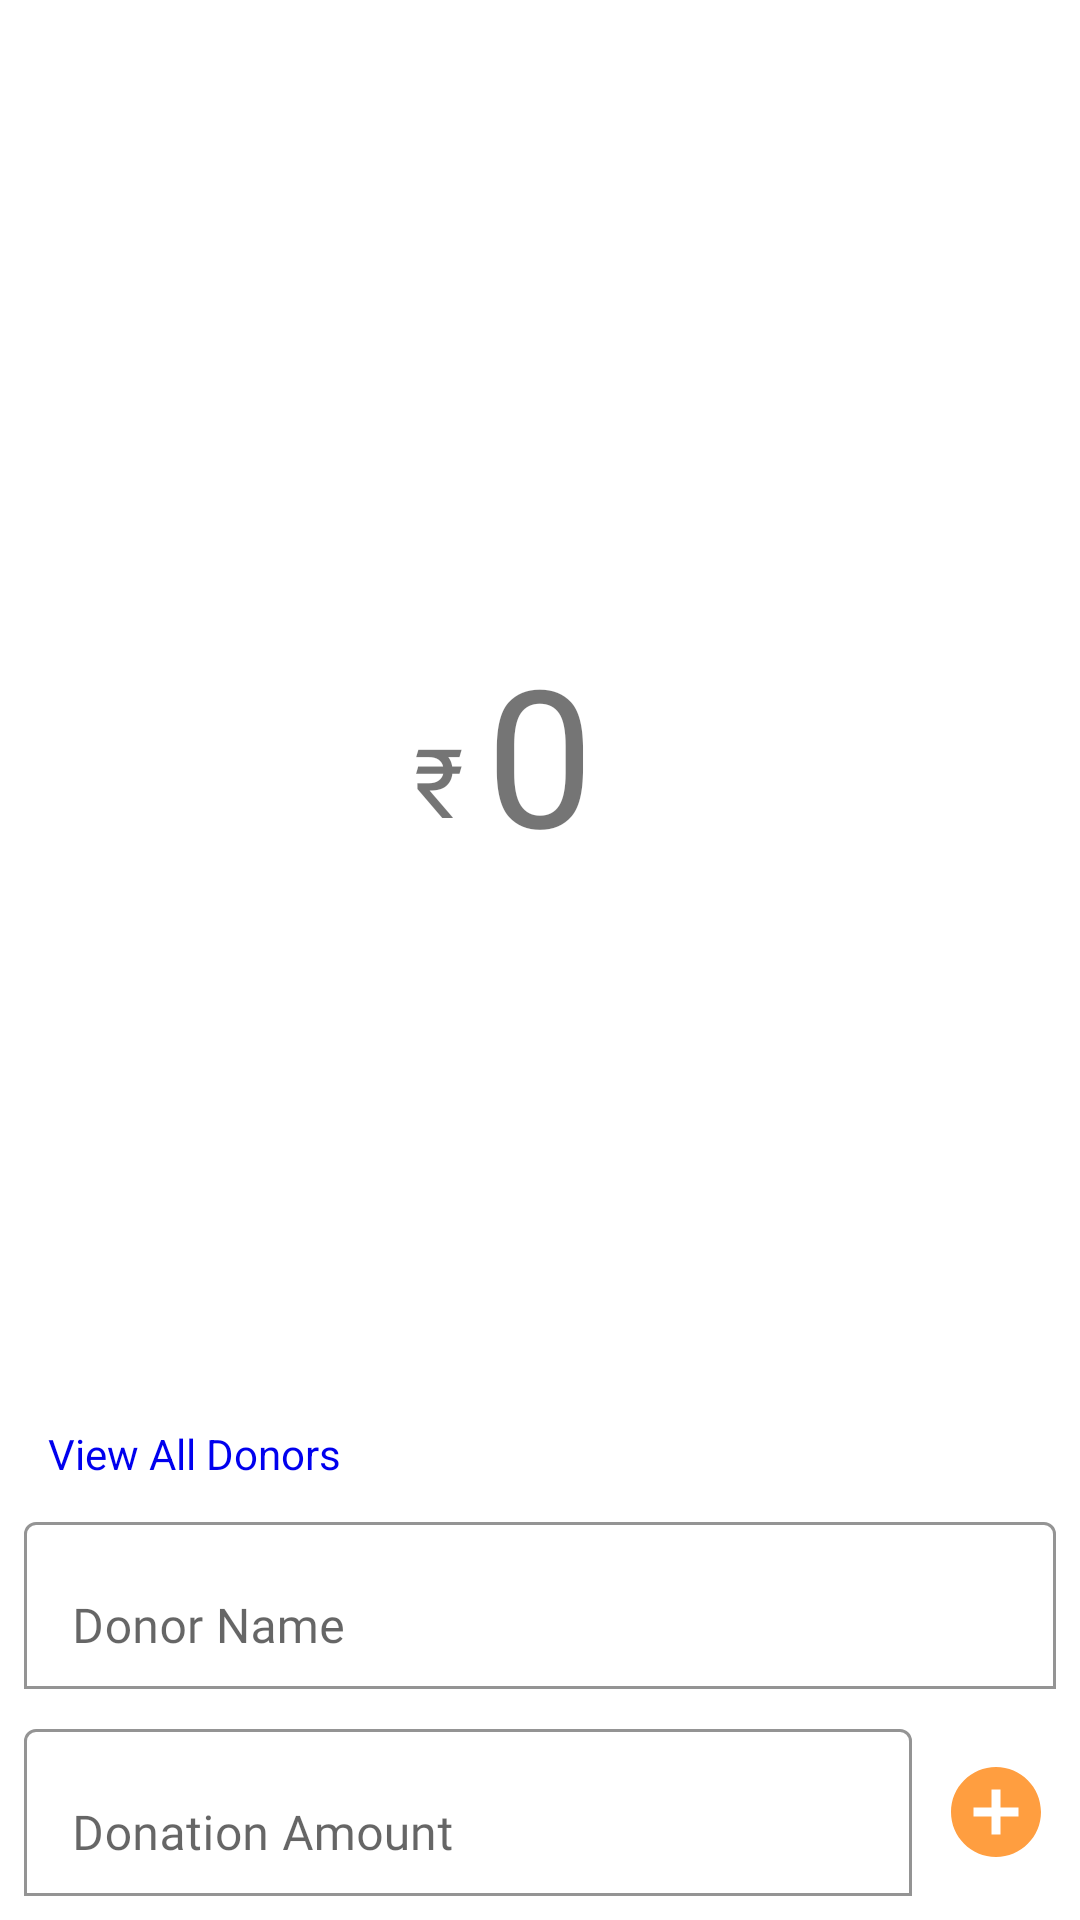

Screen size 1080px×1920px. Icon name, then its center in pixels as [x,y]:
add circle: [996,1812]
